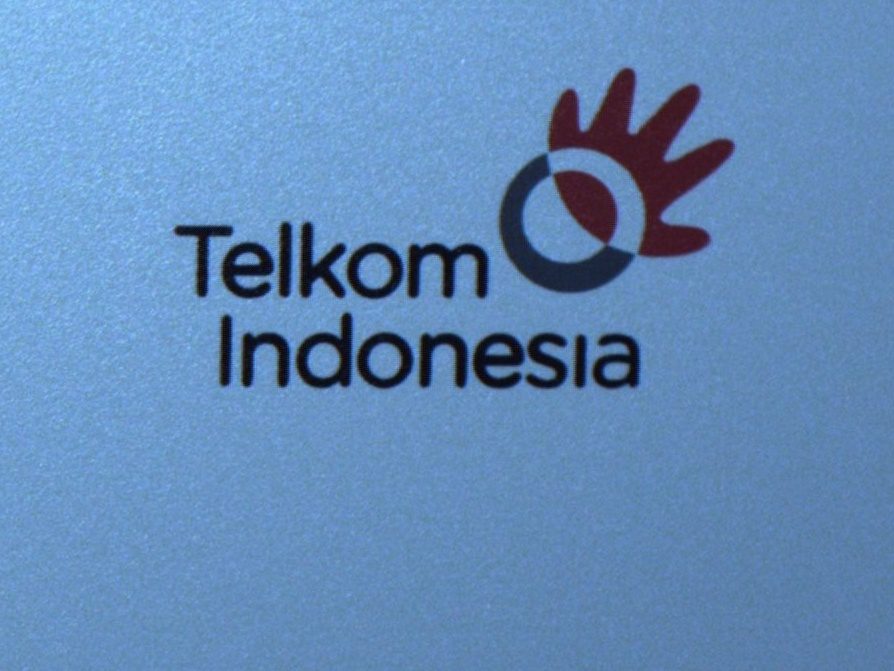BQ_IndonTelkom: (166, 64, 745, 408)
